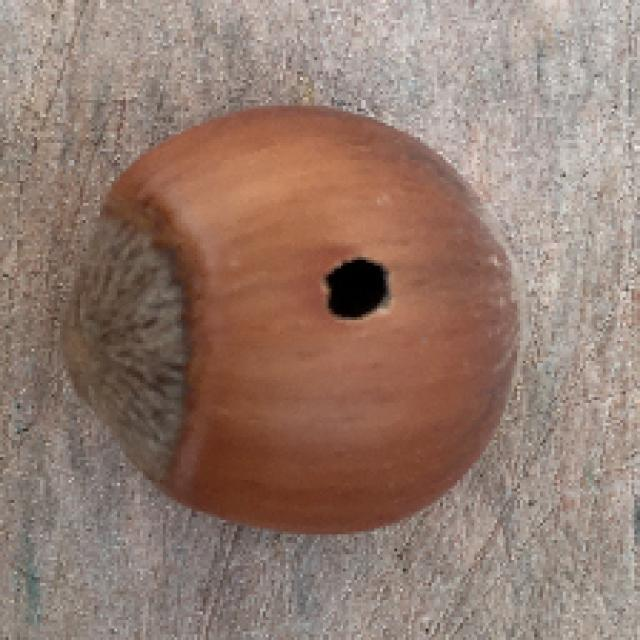DamagedHazelnut: (58, 112, 532, 533)
